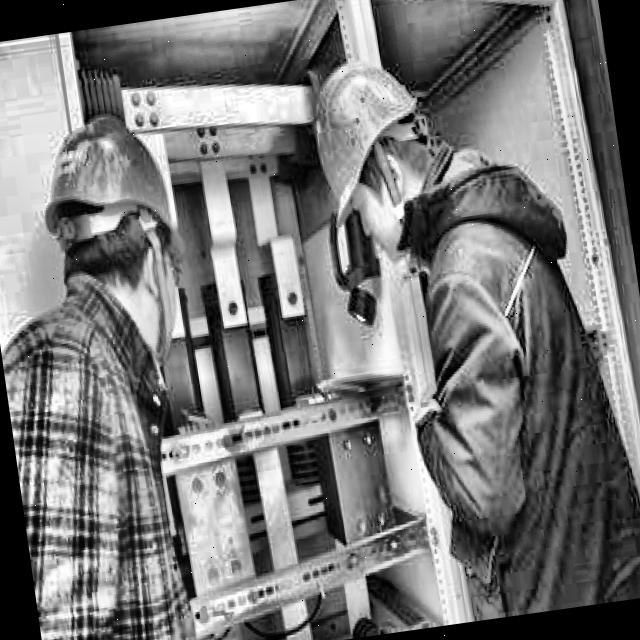helmet: (27, 90, 194, 328), (296, 46, 448, 256)
